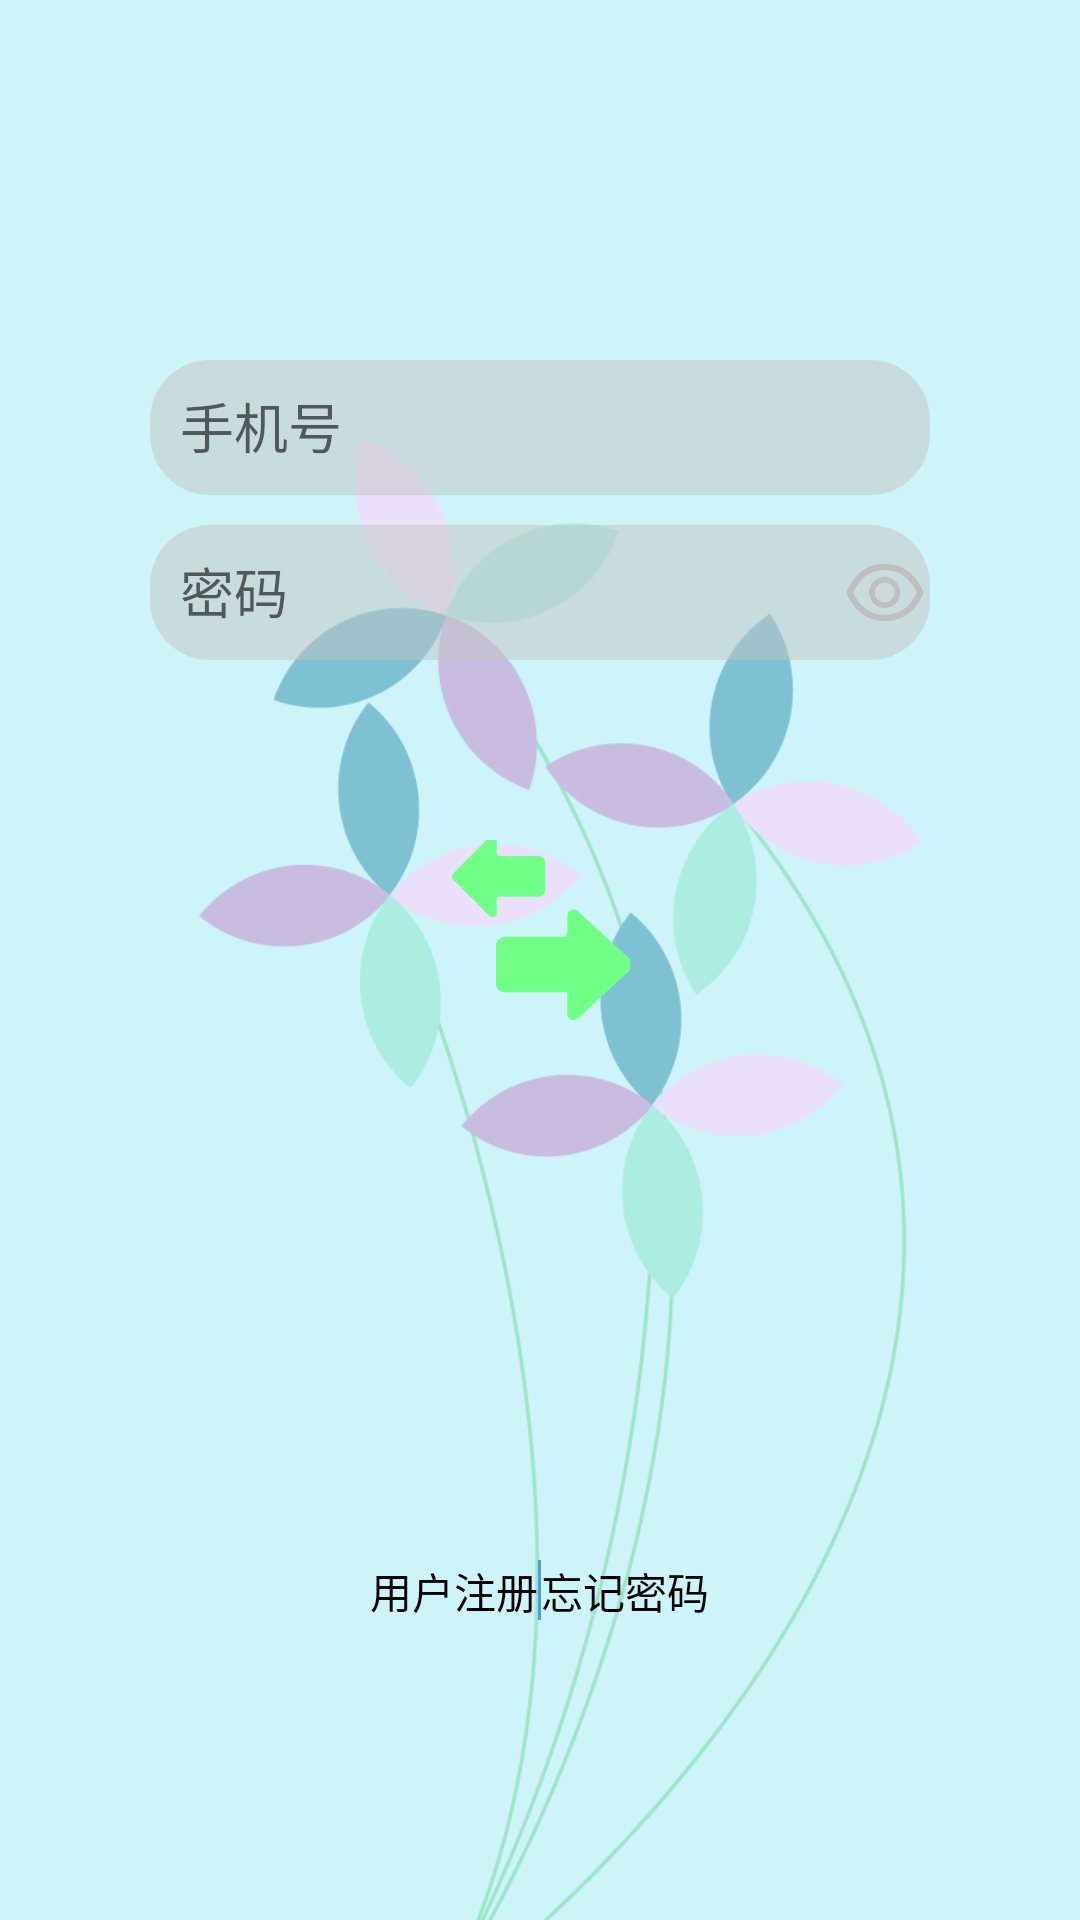

Locate icon controls on the screen. Image size 1080x1920, boxes as (x1, y1, x2, y2).
eye: (840, 525, 930, 660)
